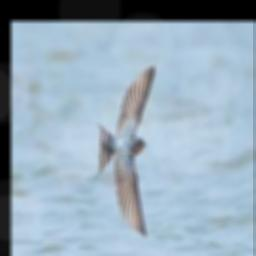Swallow: (90, 65, 154, 236)
